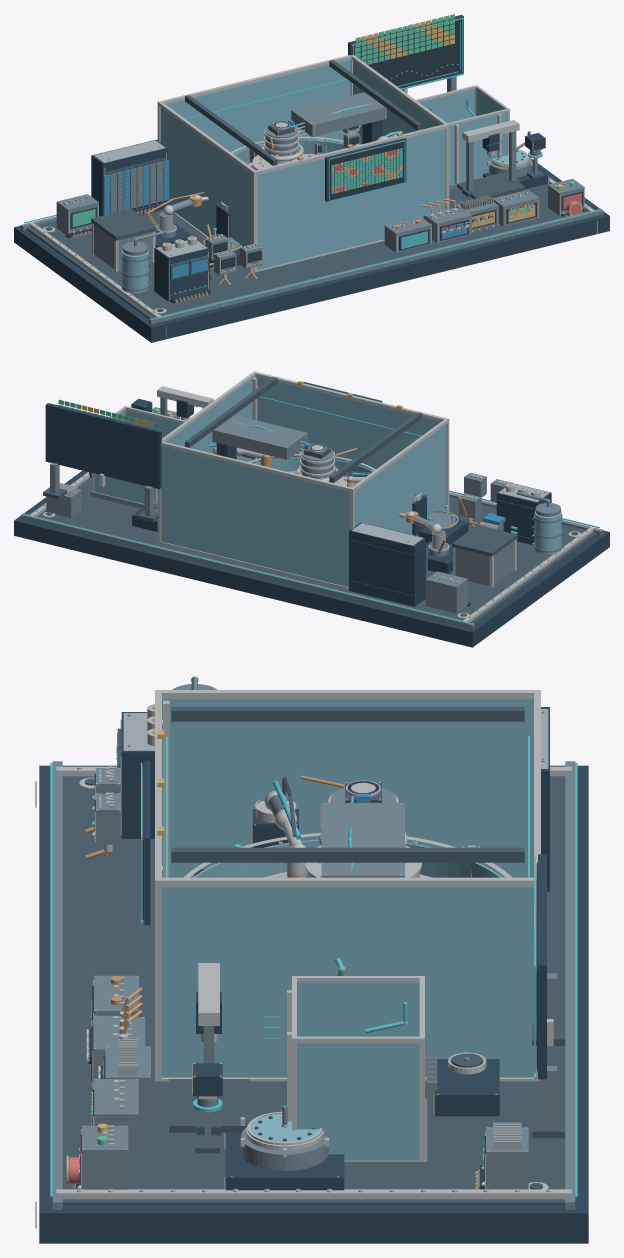
The model's file is Level73_Complete_ArtKit_Showcase.glb.
3 renders of one model, top to bottom at view 1: azimuth 30°, elevation 25°; view 2: azimuth 150°, elevation 25°; view 3: azimuth 270°, elevation 25°, orthographic. The views are drawn at different scales.
Visible parts, largest first — view 1: Level73_Complete_ArtKit_Showcase_Node_0194, Level73_Complete_ArtKit_Showcase_Node_0000, Level73_Complete_ArtKit_Showcase_Node_0020, Level73_Complete_ArtKit_Showcase_Node_0193, Level73_Complete_ArtKit_Showcase_Node_0195, Level73_Complete_ArtKit_Showcase_Node_3938, Level73_Complete_ArtKit_Showcase_Node_0023, Level73_Complete_ArtKit_Showcase_Node_0548, Level73_Complete_ArtKit_Showcase_Node_1075, Level73_Complete_ArtKit_Showcase_Node_2772, Level73_Complete_ArtKit_Showcase_Node_0196, Level73_Complete_ArtKit_Showcase_Node_1468 (+26 smaller); view 2: Level73_Complete_ArtKit_Showcase_Node_0193, Level73_Complete_ArtKit_Showcase_Node_0000, Level73_Complete_ArtKit_Showcase_Node_0194, Level73_Complete_ArtKit_Showcase_Node_0020, Level73_Complete_ArtKit_Showcase_Node_3882, Level73_Complete_ArtKit_Showcase_Node_0195, Level73_Complete_ArtKit_Showcase_Node_3576, Level73_Complete_ArtKit_Showcase_Node_0021, Level73_Complete_ArtKit_Showcase_Node_0548, Level73_Complete_ArtKit_Showcase_Node_0196, Level73_Complete_ArtKit_Showcase_Node_1356, Level73_Complete_ArtKit_Showcase_Node_1468 (+23 smaller); view 3: Level73_Complete_ArtKit_Showcase_Node_0196, Level73_Complete_ArtKit_Showcase_Node_0020, Level73_Complete_ArtKit_Showcase_Node_0195, Level73_Complete_ArtKit_Showcase_Node_0000, Level73_Complete_ArtKit_Showcase_Node_2774, Level73_Complete_ArtKit_Showcase_Node_2773, Level73_Complete_ArtKit_Showcase_Node_0204, Level73_Complete_ArtKit_Showcase_Node_0074, Level73_Complete_ArtKit_Showcase_Node_0203, Level73_Complete_ArtKit_Showcase_Node_0548, Level73_Complete_ArtKit_Showcase_Node_0023, Level73_Complete_ArtKit_Showcase_Node_0021 (+34 smaller).
Part boxes in pixels (x1,y1,x2,y2): Level73_Complete_ArtKit_Showcase_Node_0194: (257,129,445,270); Level73_Complete_ArtKit_Showcase_Node_0000: (14,158,609,342); Level73_Complete_ArtKit_Showcase_Node_0020: (27,177,594,318); Level73_Complete_ArtKit_Showcase_Node_0193: (166,59,350,153); Level73_Complete_ArtKit_Showcase_Node_0195: (160,107,252,249); Level73_Complete_ArtKit_Showcase_Node_3938: (354,20,460,86); Level73_Complete_ArtKit_Showcase_Node_0023: (149,208,603,324); Level73_Complete_ArtKit_Showcase_Node_0548: (291,92,386,136); Level73_Complete_ArtKit_Showcase_Node_1075: (329,141,404,199); Level73_Complete_ArtKit_Showcase_Node_2772: (449,112,507,184); Level73_Complete_ArtKit_Showcase_Node_0196: (353,60,440,144); Level73_Complete_ArtKit_Showcase_Node_1468: (154,239,209,301); Level73_Complete_ArtKit_Showcase_Node_0193: (161,446,349,587); Level73_Complete_ArtKit_Showcase_Node_0000: (14,470,609,647); Level73_Complete_ArtKit_Showcase_Node_0194: (256,377,440,470); Level73_Complete_ArtKit_Showcase_Node_0020: (29,472,596,623); Level73_Complete_ArtKit_Showcase_Node_3882: (45,403,161,489); Level73_Complete_ArtKit_Showcase_Node_0195: (354,424,446,534); Level73_Complete_ArtKit_Showcase_Node_3576: (349,522,425,606); Level73_Complete_ArtKit_Showcase_Node_0021: (20,513,474,629); Level73_Complete_ArtKit_Showcase_Node_0548: (212,415,307,459); Level73_Complete_ArtKit_Showcase_Node_0196: (166,379,252,462); Level73_Complete_ArtKit_Showcase_Node_1356: (455,540,514,586); Level73_Complete_ArtKit_Showcase_Node_1468: (496,482,551,545); Level73_Complete_ArtKit_Showcase_Node_0196: (162,887,533,1077); Level73_Complete_ArtKit_Showcase_Node_0020: (62,776,565,1206); Level73_Complete_ArtKit_Showcase_Node_0195: (162,699,533,877); Level73_Complete_ArtKit_Showcase_Node_0000: (39,765,588,1243); Level73_Complete_ArtKit_Showcase_Node_2774: (297,1043,419,1159); Level73_Complete_ArtKit_Showcase_Node_2773: (297,982,419,1036); Level73_Complete_ArtKit_Showcase_Node_0204: (171,847,524,862); Level73_Complete_ArtKit_Showcase_Node_0074: (56,1189,571,1199); Level73_Complete_ArtKit_Showcase_Node_0203: (171,707,524,721); Level73_Complete_ArtKit_Showcase_Node_0548: (321,803,404,877); Level73_Complete_ArtKit_Showcase_Node_0023: (52,761,62,1209); Level73_Complete_ArtKit_Showcase_Node_0021: (565,761,575,1209).
Size of the model in its own units: 17.15 by 5.01 by 8.97.
